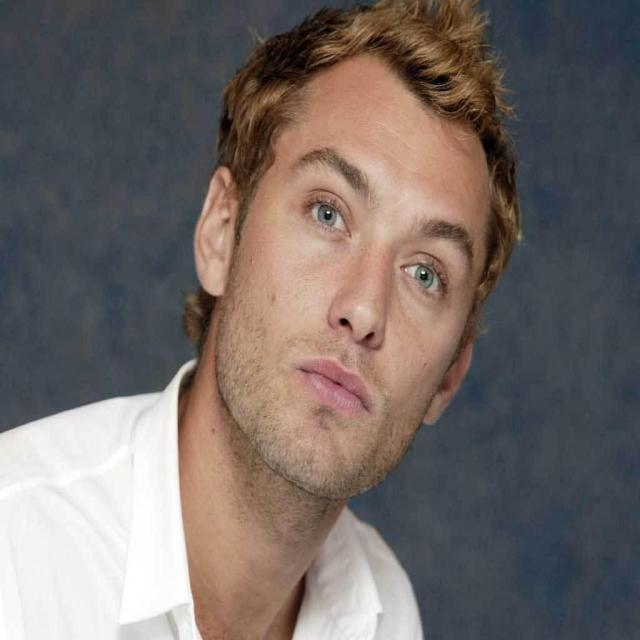no-earmuff: (191, 164, 244, 298)
